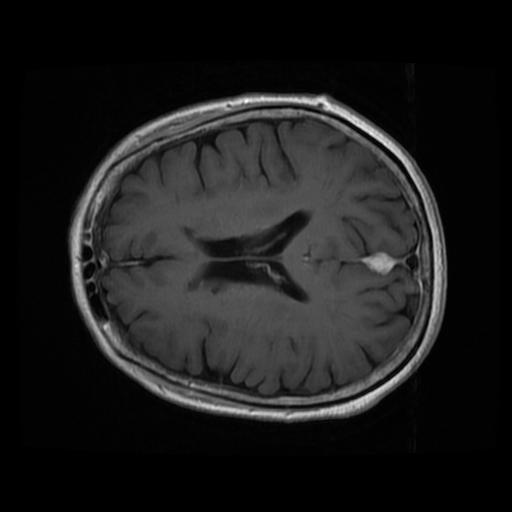meningioma: (360, 253, 395, 274)
